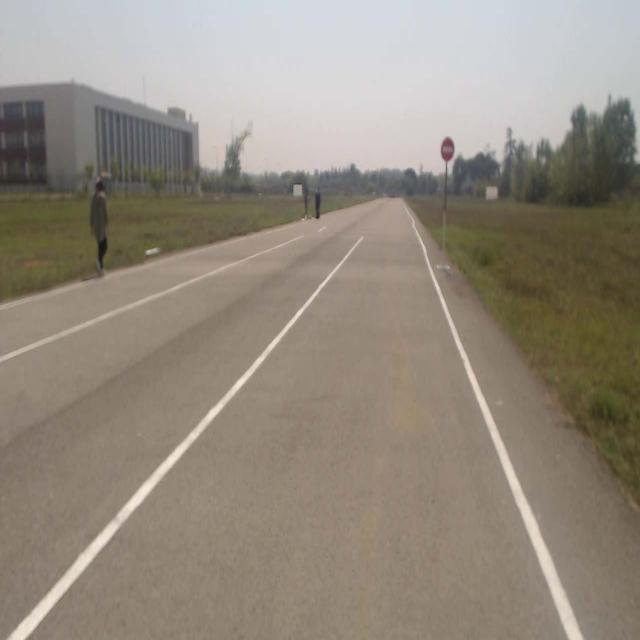girisyok: (441, 138, 454, 161)
